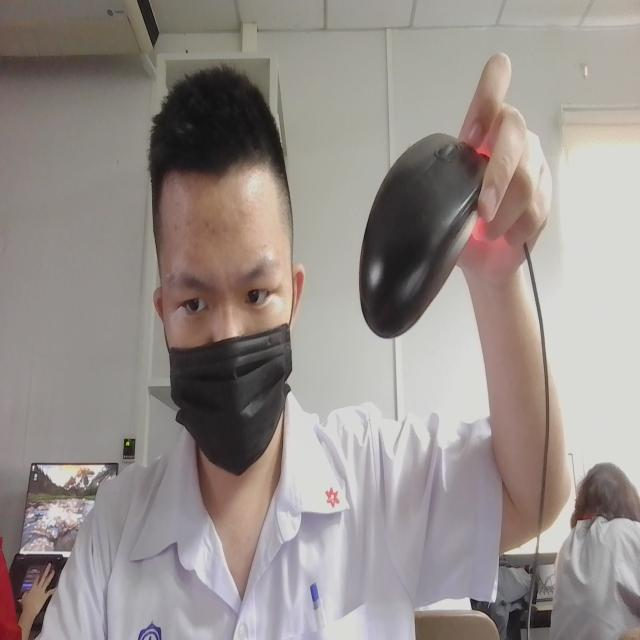mouse: (333, 115, 491, 352)
